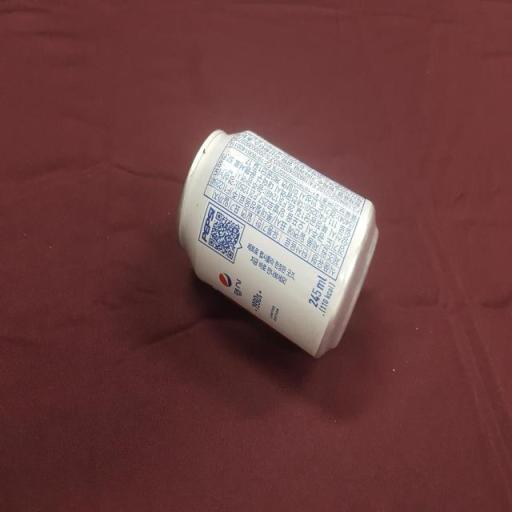metal: (167, 107, 389, 401)
